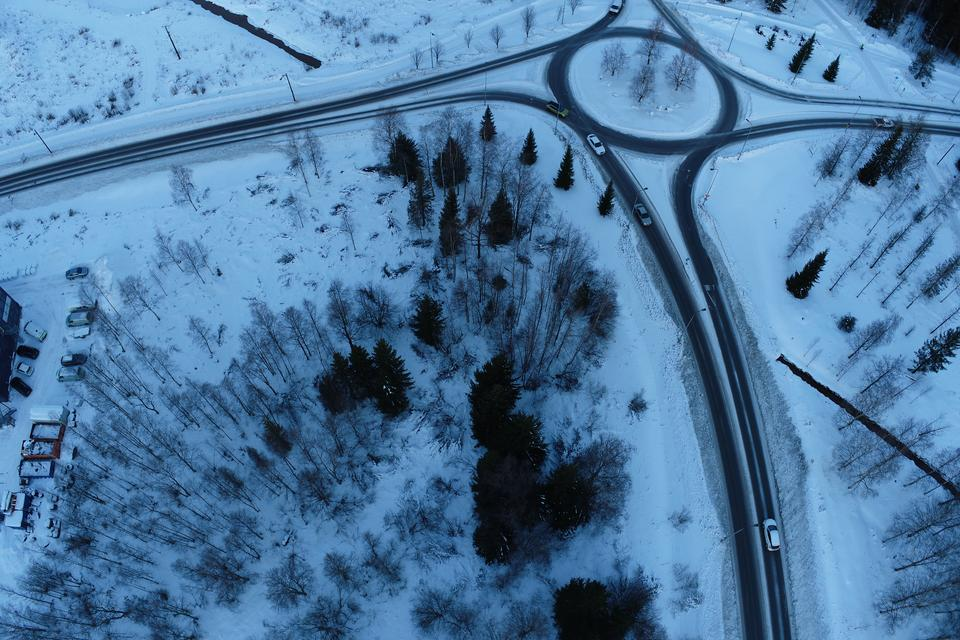roundabout: (507, 0, 776, 180)
